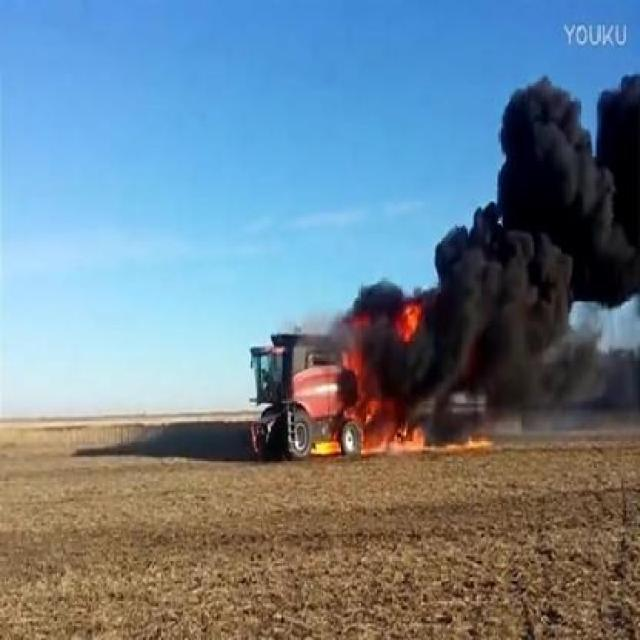Fire: (344, 289, 434, 456)
Smoke: (458, 76, 640, 402)
